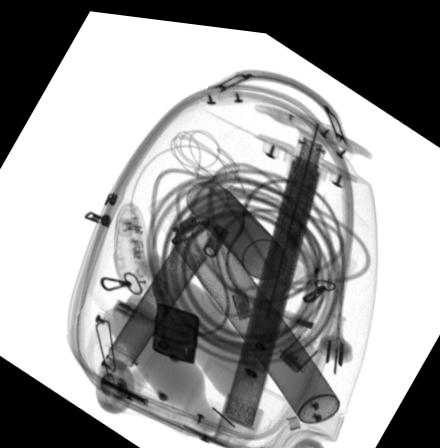Lighter: (154, 298, 200, 359)
Sprayer: (149, 183, 341, 415)
